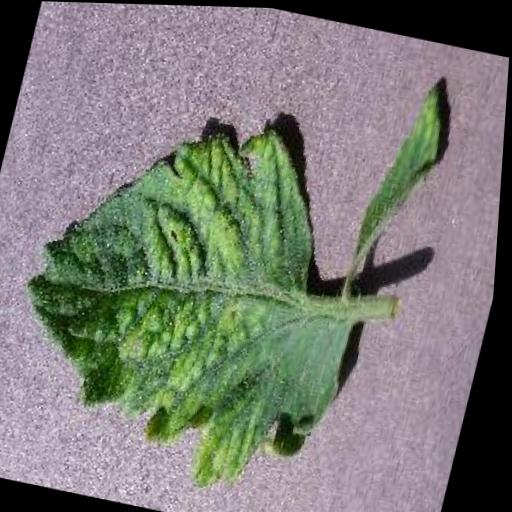Mosaic Virus: (0, 82, 404, 508), (351, 67, 461, 273)
